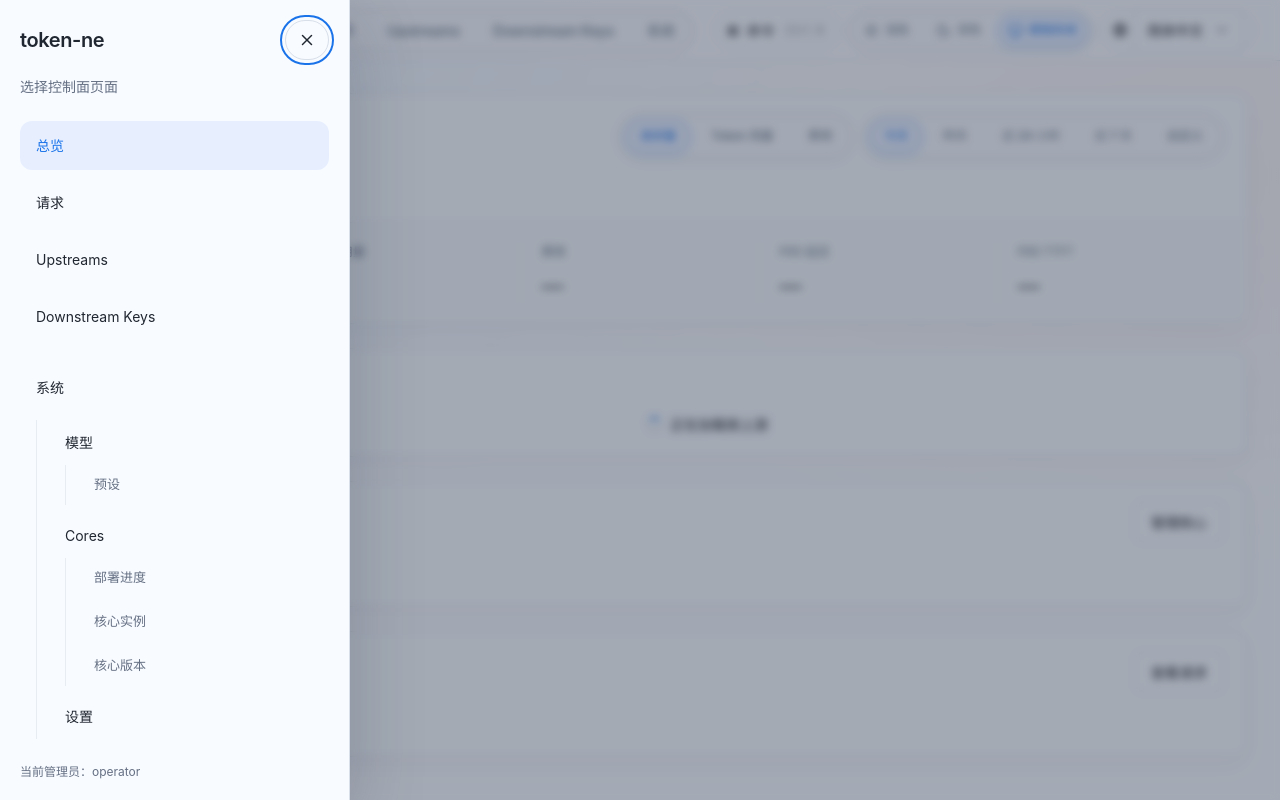
Test case: shared boundaries › opens mobile navigation and closes it after choosing a route
Earlier steps of the test are not shown.
Click the link "预设": (107, 484) [94,476,120,492]
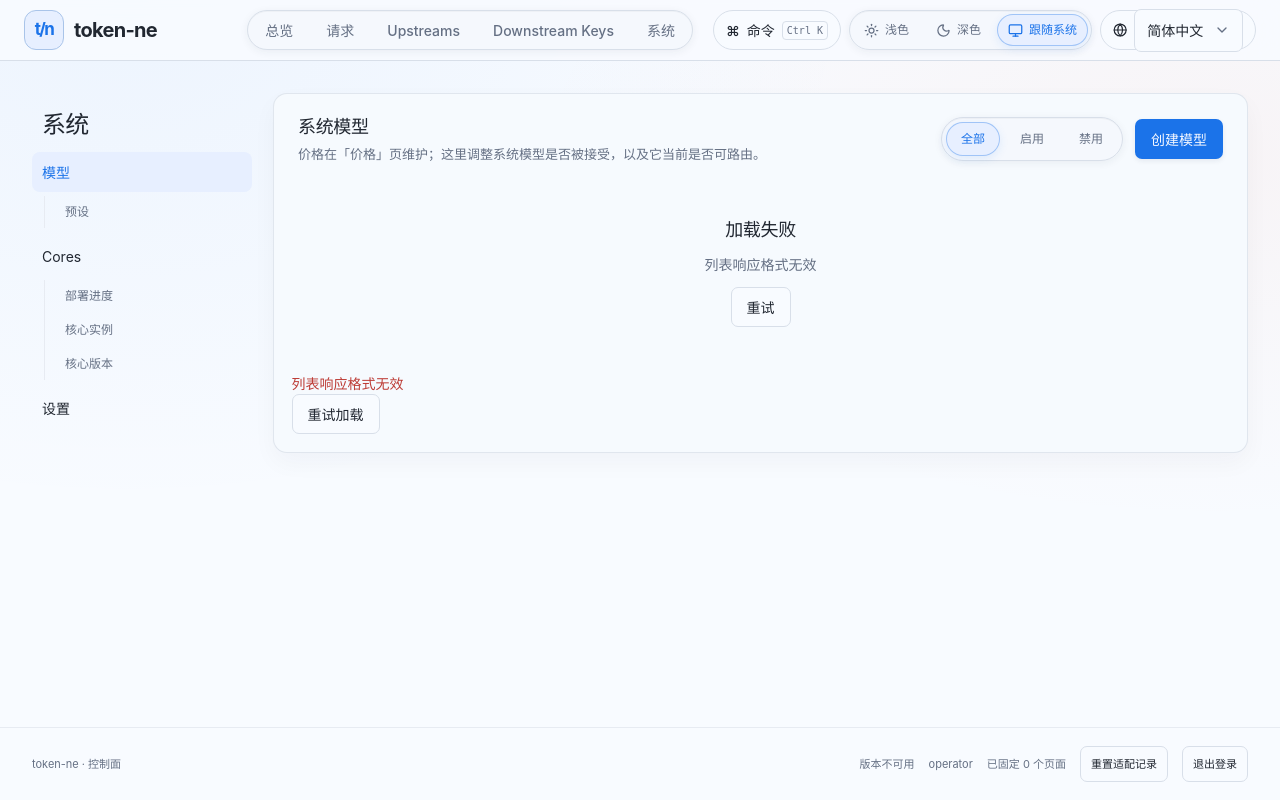
Result: the dialog is gone
